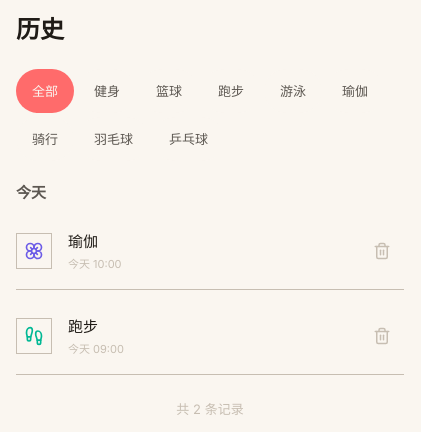
Test: History 历史记录页 › 点击"全部"恢复显示所有记录
Expected: the element with test id "group-今天" is shown, [16,181,404,375]
Step 1. Click the button "跑步" → (231, 91), box [202,69,260,113]
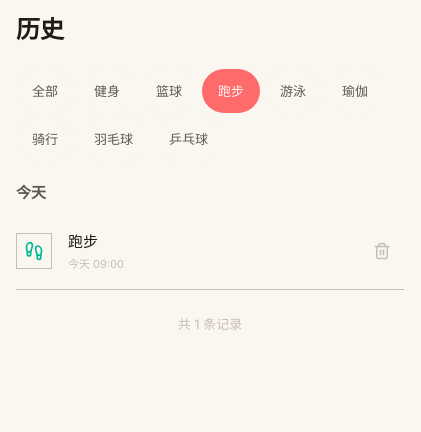
Step 2. Click the button "全部" → (45, 91), box [16,69,74,113]
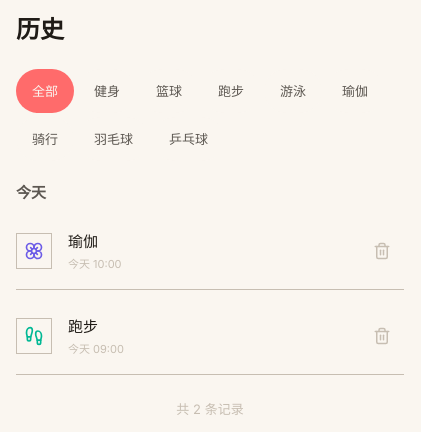
Expected: the text "跑步" is shown, [68,317,98,336]
Now the text "瑜伽" is shown, box [68,232,98,251]
